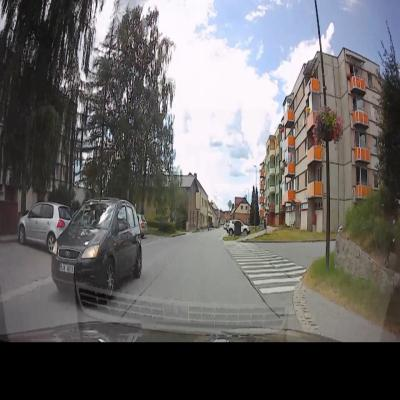clear-road: (118, 228, 293, 310), (263, 242, 326, 268), (30, 281, 74, 301)
